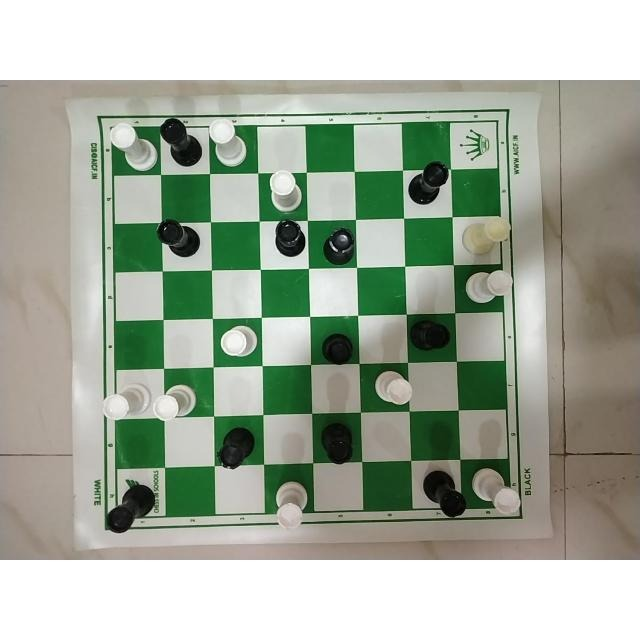black-rook: (102, 478, 158, 532), (419, 467, 469, 518), (406, 160, 453, 210), (158, 115, 203, 167), (153, 217, 203, 256), (213, 426, 257, 470), (321, 221, 359, 270), (268, 216, 309, 260), (315, 422, 355, 466), (408, 318, 452, 356), (318, 329, 358, 370)
white-rook: (471, 466, 523, 516), (106, 123, 158, 172), (459, 214, 513, 258), (208, 113, 250, 166), (268, 480, 312, 530), (100, 383, 151, 423), (466, 267, 516, 306), (371, 366, 415, 407), (264, 169, 303, 213), (151, 383, 198, 419), (216, 322, 257, 360)
